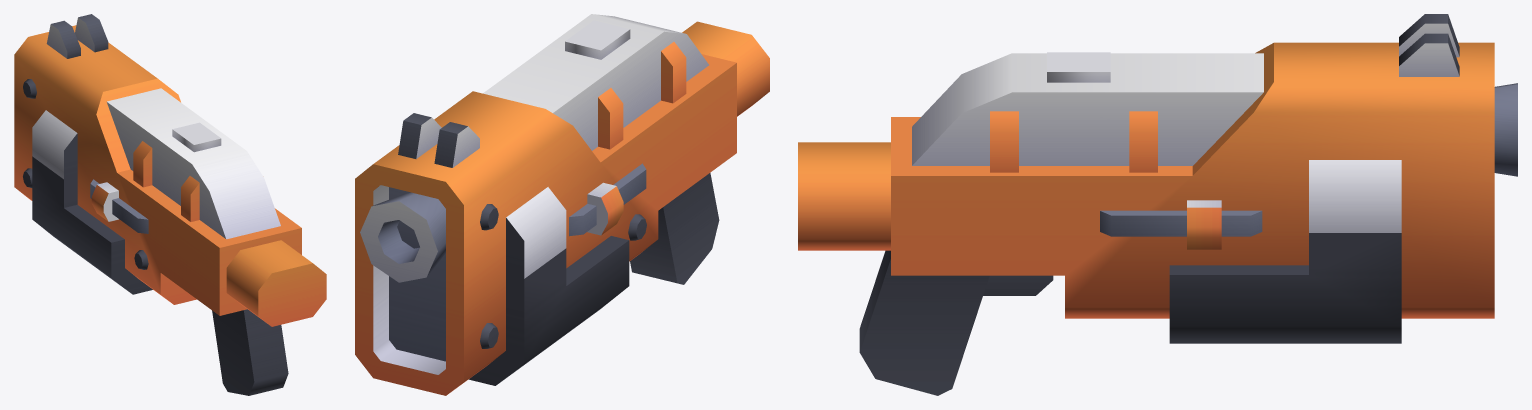
File: blaster-m.glb
3 views of the same model, side by side, from view 1: azimuth 30°, elevation 25°; view 2: azimuth 150°, elevation 25°; view 3: azimuth 270°, elevation 25° (orthographic). The views are drawn at different scales.
Parts seen in each view (by area): view 1: blaster-m; view 2: blaster-m; view 3: blaster-m.
Part boxes in pixels (bbox=[...]): blaster-m: bbox=[14, 14, 326, 395]; blaster-m: bbox=[355, 14, 769, 395]; blaster-m: bbox=[798, 14, 1517, 395].
Size of the model in its own units: 0.165 by 0.3374 by 0.6201.
Materials: 1 (1 with a texture image).
